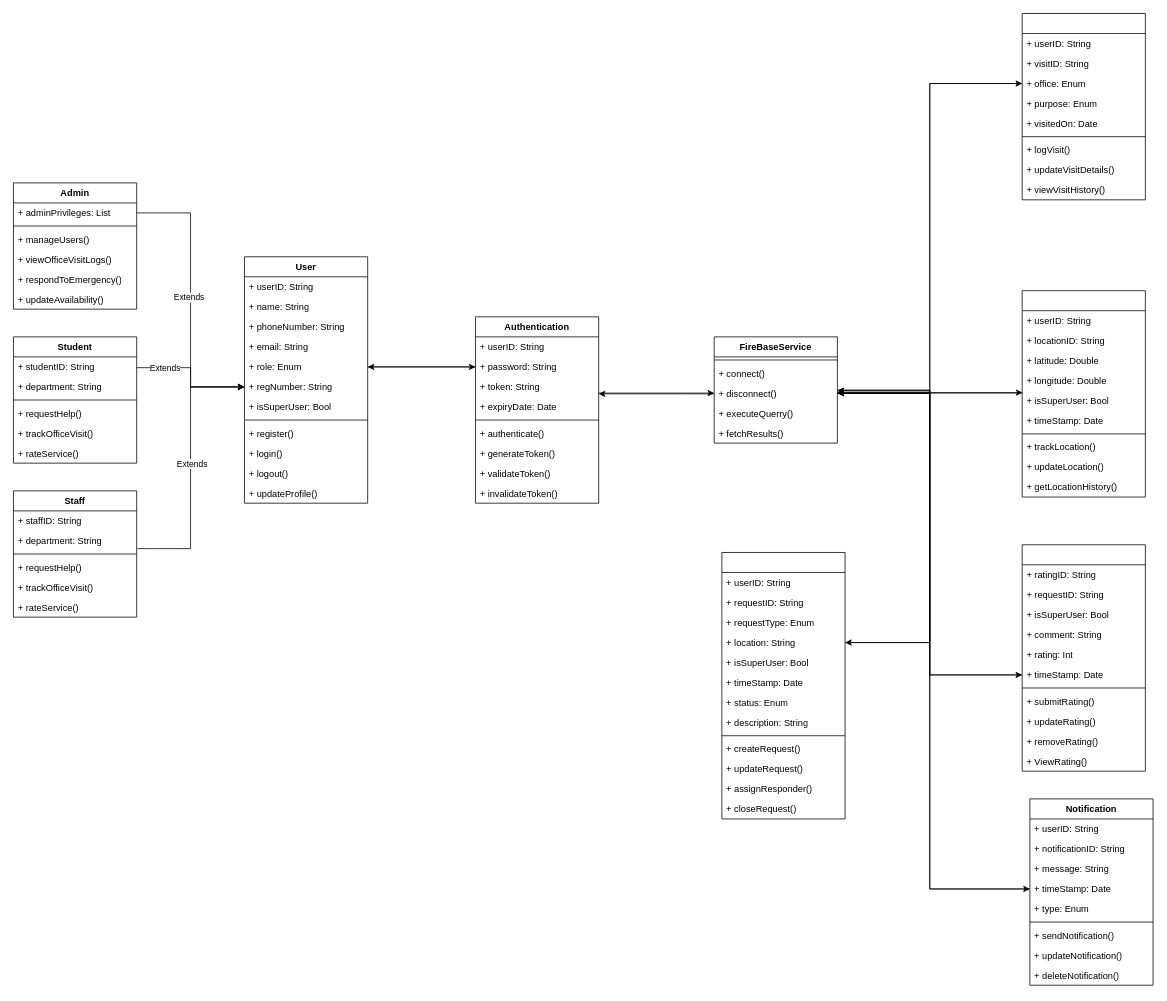
This 1167x1001 diagram has some shape labels left out. The shapes that lost their labels are listed below. From the top down, each one's box as (x1, y1, x2, y2) in pixels, then its label:
(1021, 13, 1145, 200): OfficeVisits
(1021, 290, 1145, 497): LocationService
(1021, 544, 1145, 771): ServiceRating
(721, 552, 845, 819): EmergencyRequest
